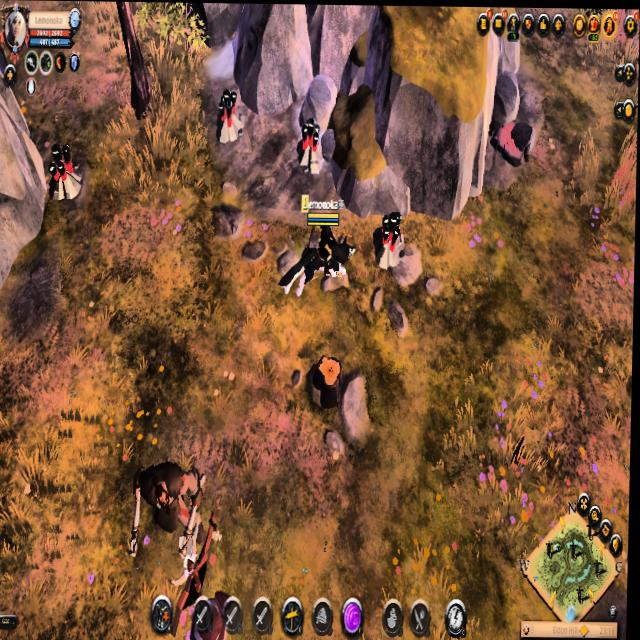ore tier 5: (45, 142, 84, 204), (372, 210, 409, 269), (212, 87, 247, 146), (295, 114, 326, 177)
